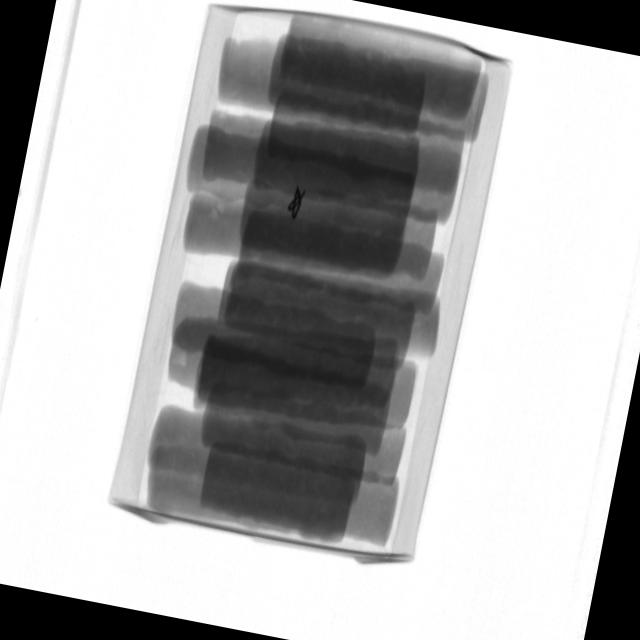ym: (287, 187, 307, 223)
